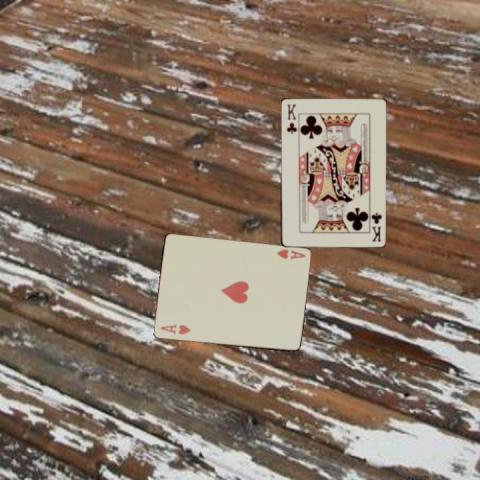Ah: (158, 322, 192, 336), (274, 246, 307, 260)
Kc: (368, 209, 383, 243), (284, 101, 298, 135)
